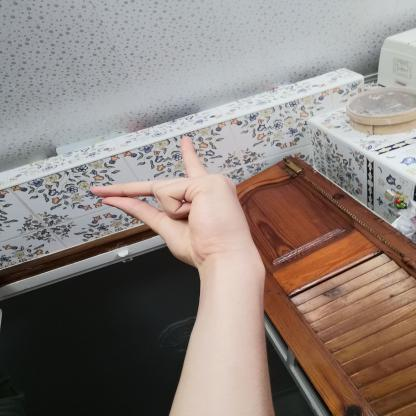TAA: (79, 129, 268, 278)
